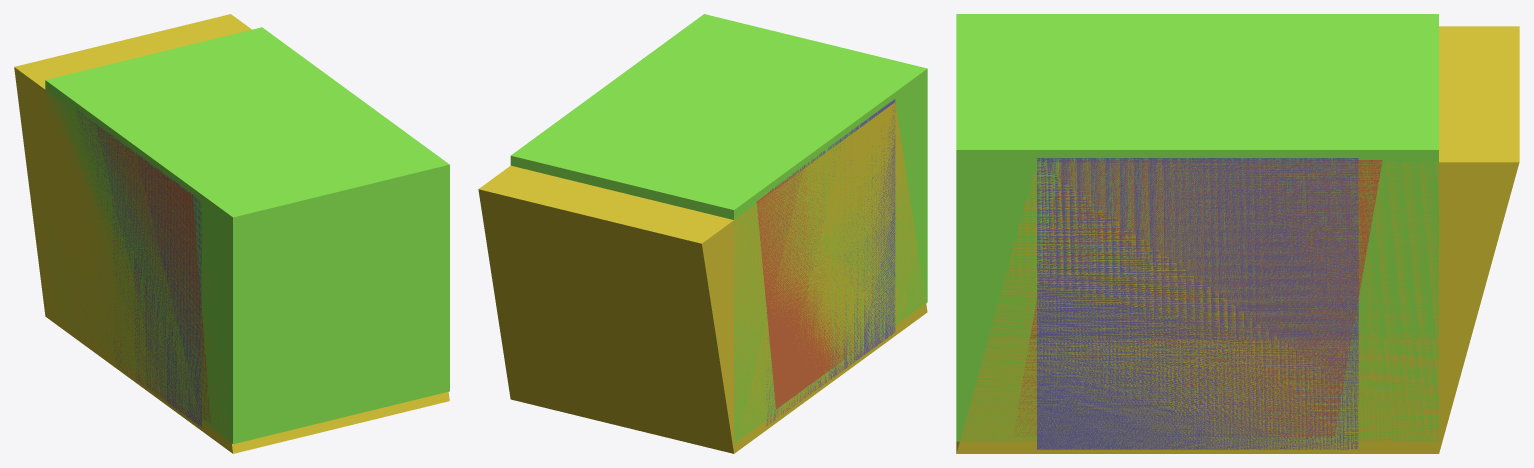
File: ShapesAndMoulds02.fbx
The picture shows the model from 3 angles, left to right: view 1: azimuth 30°, elevation 25°; view 2: azimuth 150°, elevation 25°; view 3: azimuth 270°, elevation 25°; orthographic projection. The views are drawn at different scales.
Parts seen in each view (by area): view 1: Cube.007, Cube.008, Cube.004, Cube.006; view 2: Cube.008, Cube.007, Cube.006, Cube.004; view 3: Cube.007, Cube.008, Cube.004, Cube.006.
Boxes of the visible parts, x1,y1,x2,y2 form: Cube.007: [45, 27, 449, 444]; Cube.008: [14, 14, 449, 453]; Cube.004: [77, 110, 201, 426]; Cube.006: [74, 109, 210, 423]; Cube.008: [478, 102, 927, 453]; Cube.007: [510, 14, 927, 443]; Cube.006: [756, 148, 863, 409]; Cube.004: [766, 99, 895, 426]; Cube.007: [956, 14, 1438, 441]; Cube.008: [956, 26, 1519, 453]; Cube.004: [1037, 158, 1358, 449]; Cube.006: [1013, 160, 1382, 436].
Size of the model in its own units: 200 by 209 by 350.
1 material, 1 textured.
